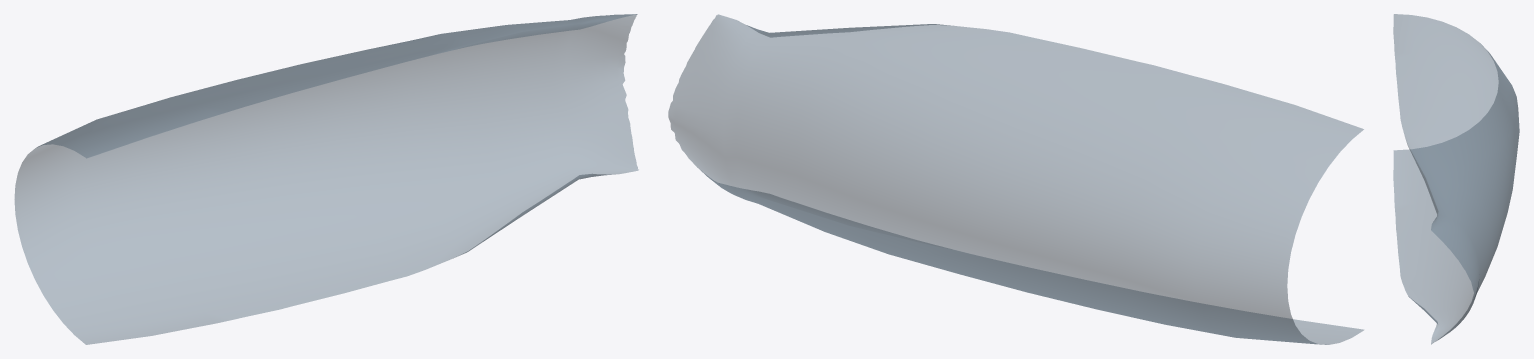
File: canopy_glass_outer.fbx
3 renders of one model, left to right at view 1: azimuth 30°, elevation 25°; view 2: azimuth 150°, elevation 25°; view 3: azimuth 270°, elevation 25°, orthographic. The views are drawn at different scales.
Parts seen in each view (by area): view 1: canopy_glass_outer; view 2: canopy_glass_outer; view 3: canopy_glass_outer.
Part boxes in pixels (box(x1,y1,x2,y2)): canopy_glass_outer: box(14, 14, 638, 344); canopy_glass_outer: box(668, 14, 1363, 344); canopy_glass_outer: box(1393, 14, 1519, 344).
Size of the model in its own units: 2.46 by 0.8495 by 0.6211.
